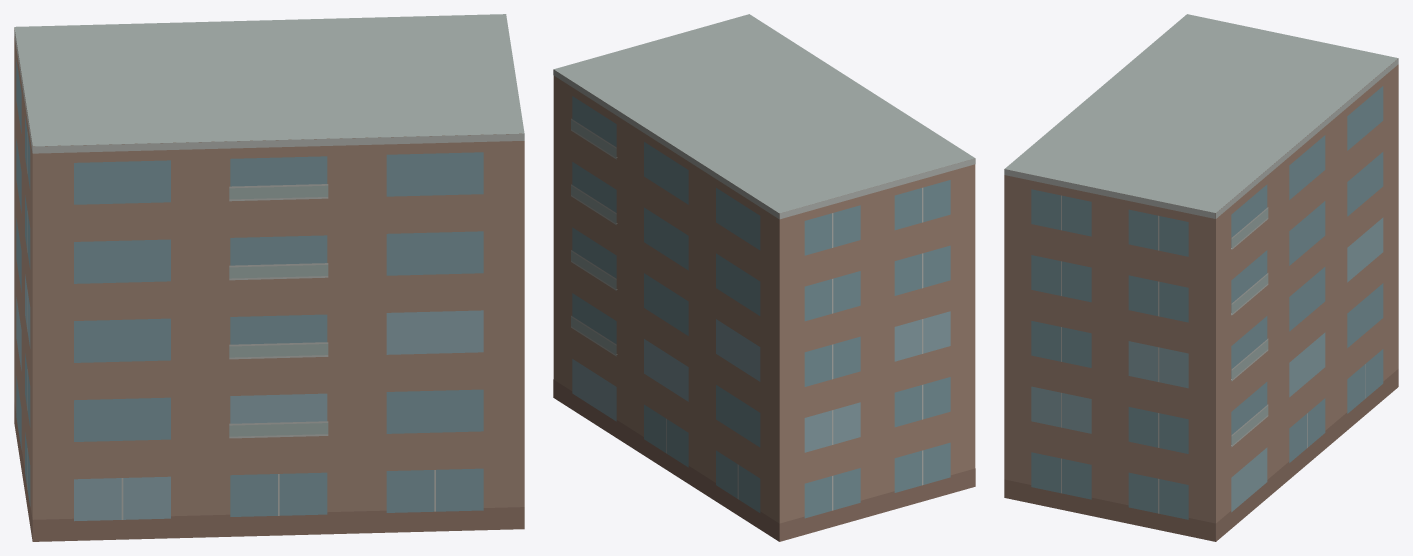
The model's file is survey-upis-32950957.glb.
3 views of the same model, side by side, from view 1: azimuth 30°, elevation 25°; view 2: azimuth 150°, elevation 25°; view 3: azimuth 270°, elevation 25° (orthographic). The views are drawn at different scales.
Parts seen in each view (by area): view 1: survey-upis-32950957.tmp; view 2: survey-upis-32950957.tmp; view 3: survey-upis-32950957.tmp.
Boxes of the visible parts, box(x1,y1,x2,y2) form: survey-upis-32950957.tmp: box(14, 14, 524, 541); survey-upis-32950957.tmp: box(553, 14, 975, 541); survey-upis-32950957.tmp: box(1004, 14, 1398, 541).
Size of the model in its own units: 17.41 by 13.4 by 14.57.
